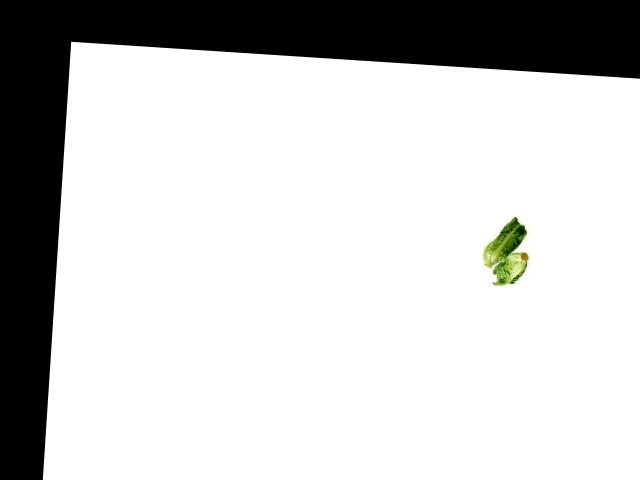lettuce: (479, 217, 539, 290)
